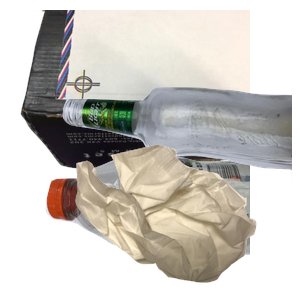cardboard: (18, 10, 258, 171)
glass: (60, 84, 300, 260)
plastic: (43, 152, 283, 300)
trash: (73, 142, 300, 300)
